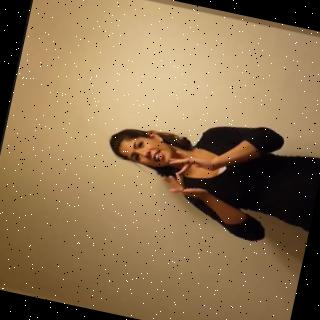Internet: (90, 90, 320, 253)
